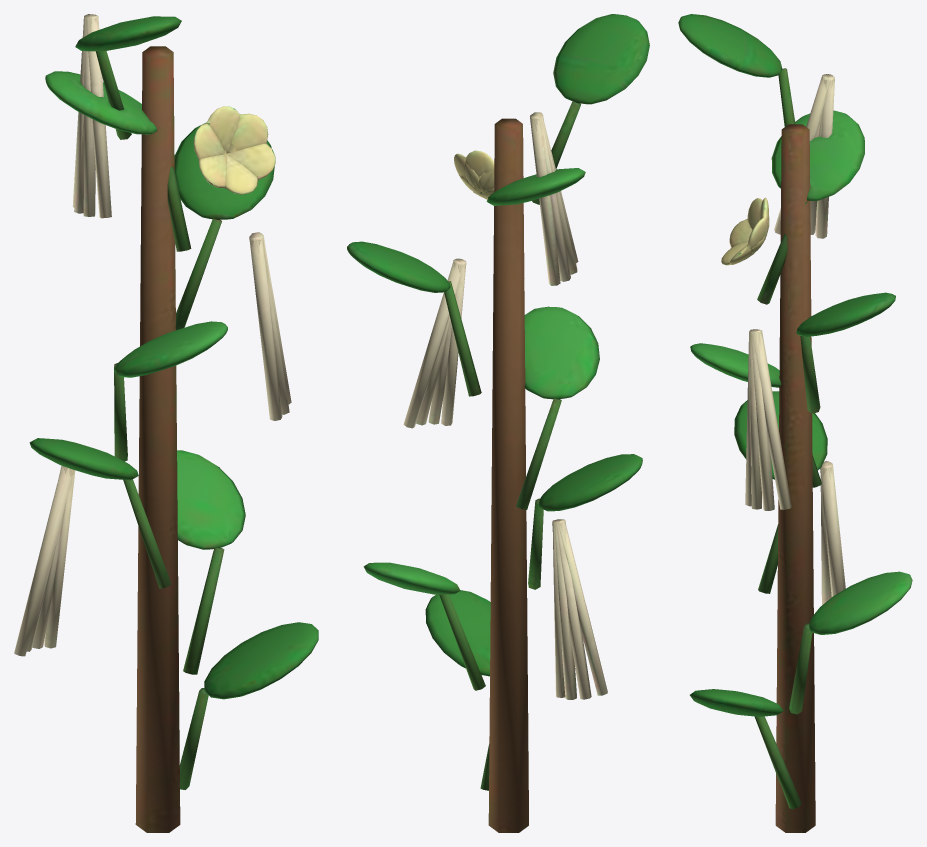
The model's file is crop_vanilla.glb.
The picture shows the model from 3 angles, left to right: view 1: azimuth 30°, elevation 25°; view 2: azimuth 150°, elevation 25°; view 3: azimuth 270°, elevation 25°; orthographic projection. The views are drawn at different scales.
Visible parts, largest first — view 1: crop_vanilla, fruit; view 2: crop_vanilla, fruit; view 3: crop_vanilla, fruit.
Part boxes in pixels (x1,y1,x2,y2): crop_vanilla: (29,16,318,832); fruit: (14,14,291,656); crop_vanilla: (347,14,649,832); fruit: (403,112,607,699); crop_vanilla: (678,14,912,832); fruit: (745,74,845,605).
Bounding box in the file's own units: 0.169 × 0.5132 × 0.1404.
Materials: 1 (1 with a texture image).
